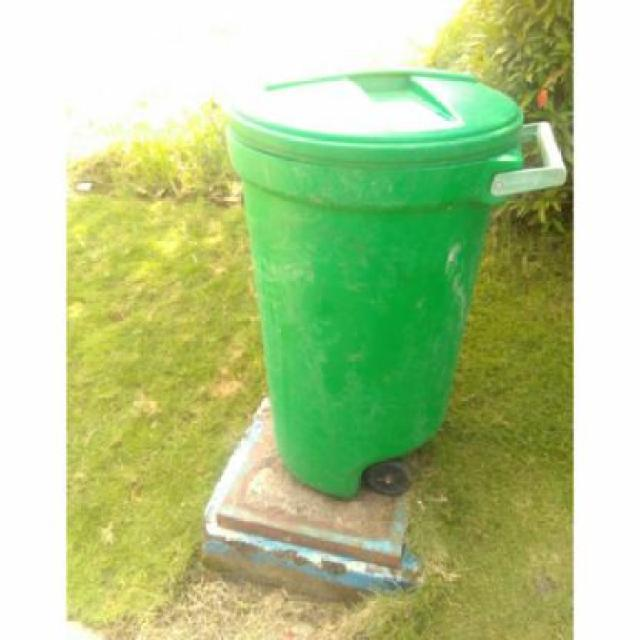garbage container: (210, 56, 576, 510)
